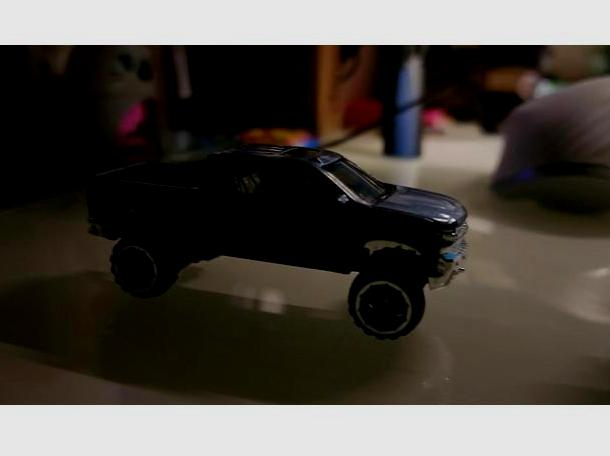toy-car: (86, 142, 469, 342)
